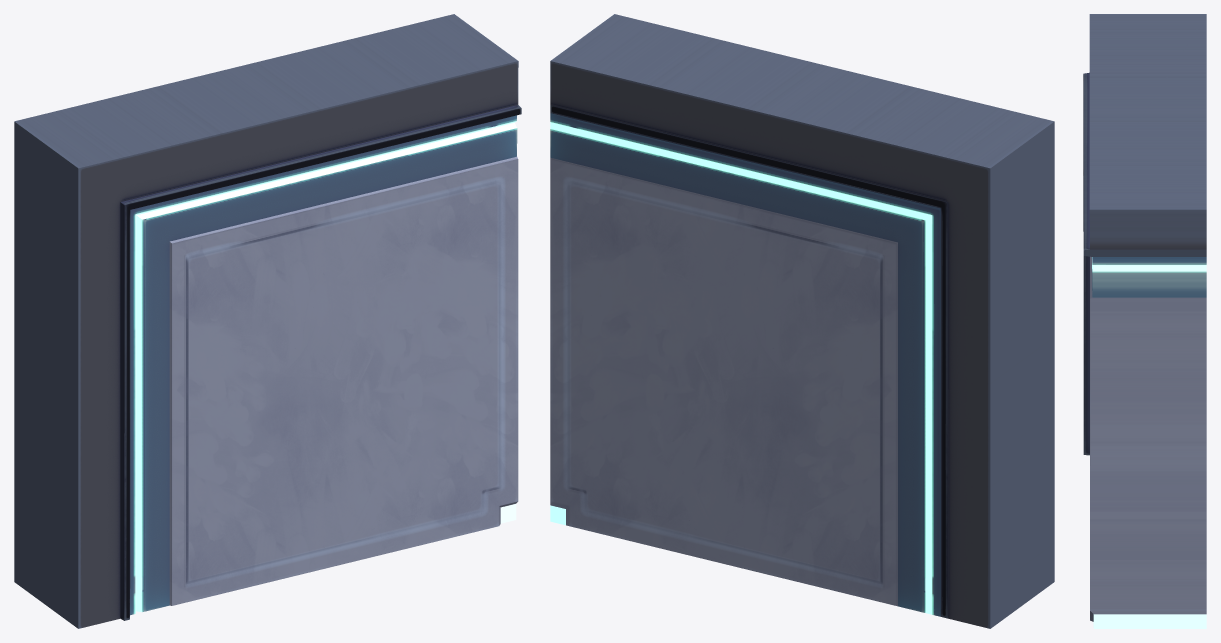
File: floor1-3_low.fbx
3 views of the same model, side by side, from view 1: azimuth 30°, elevation 25°; view 2: azimuth 150°, elevation 25°; view 3: azimuth 270°, elevation 25° (orthographic). The views are drawn at different scales.
Visible parts, largest first — view 1: floor1-3_low; view 2: floor1-3_low; view 3: floor1-3_low.
Part boxes in pixels (left/top/right/bottom): floor1-3_low: left=14, top=14, right=521, bottom=628; floor1-3_low: left=550, top=14, right=1054, bottom=628; floor1-3_low: left=1083, top=14, right=1206, bottom=628.
Bounding box in the file's own units: 150 × 150 × 40.
